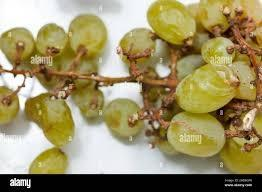Grape Rotten: (0, 0, 262, 173)
